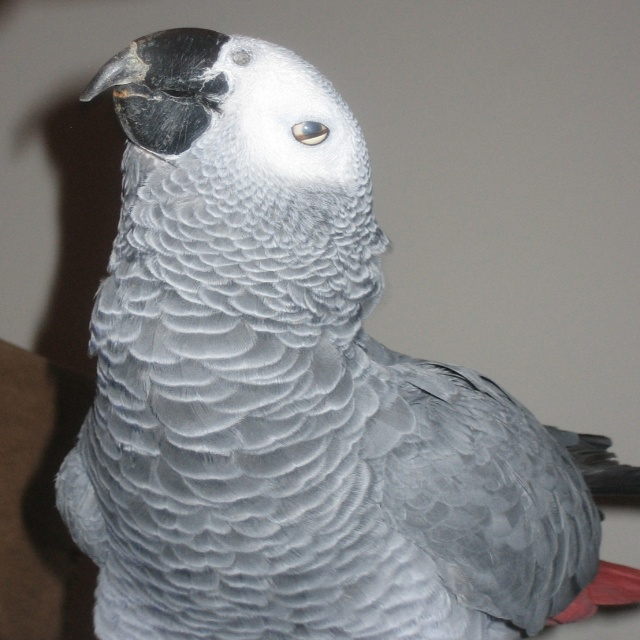Parrot: (51, 26, 639, 640)
